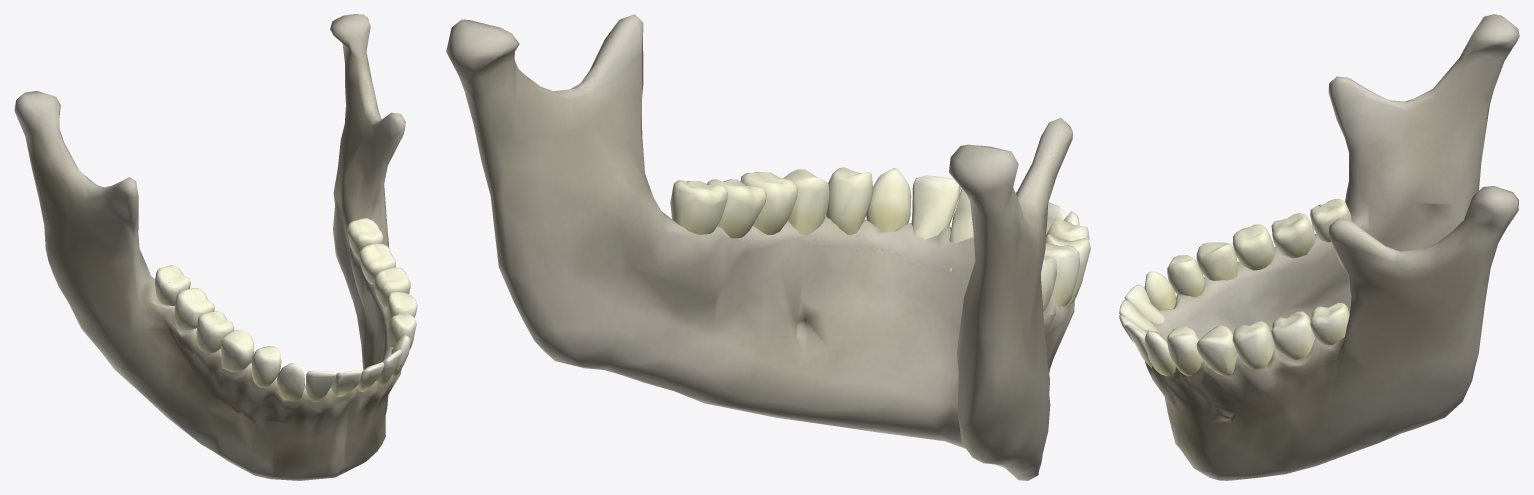
Rendered from Skull.gltf.
3 views of the same model, side by side, from view 1: azimuth 30°, elevation 25°; view 2: azimuth 150°, elevation 25°; view 3: azimuth 270°, elevation 25° (orthographic). The views are drawn at different scales.
Visible parts, largest first — view 1: Group18643, Group24600; view 2: Group18643, Group24600; view 3: Group18643, Group24600.
Part boxes in pixels (x1,y1,x2,y2): Group18643: (14, 14, 405, 480); Group24600: (154, 218, 417, 401); Group18643: (446, 14, 1074, 480); Group24600: (670, 167, 1090, 311); Group18643: (1145, 14, 1519, 480); Group24600: (1119, 198, 1351, 376).
Size of the model in its own units: 1.85 by 1.62 by 1.67.
2 materials, 2 textured.
